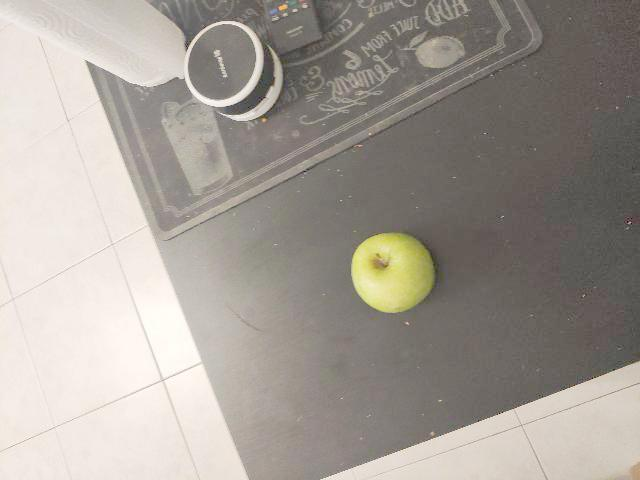apple: (170, 342, 273, 471)
